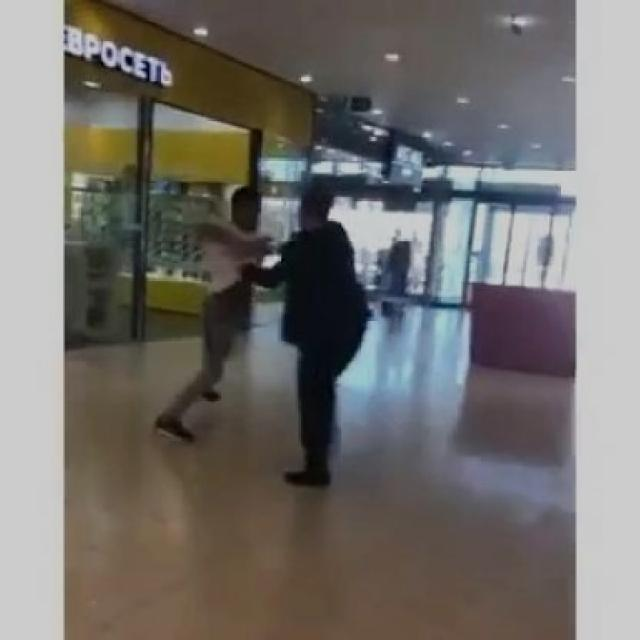fight: (100, 157, 403, 505)
